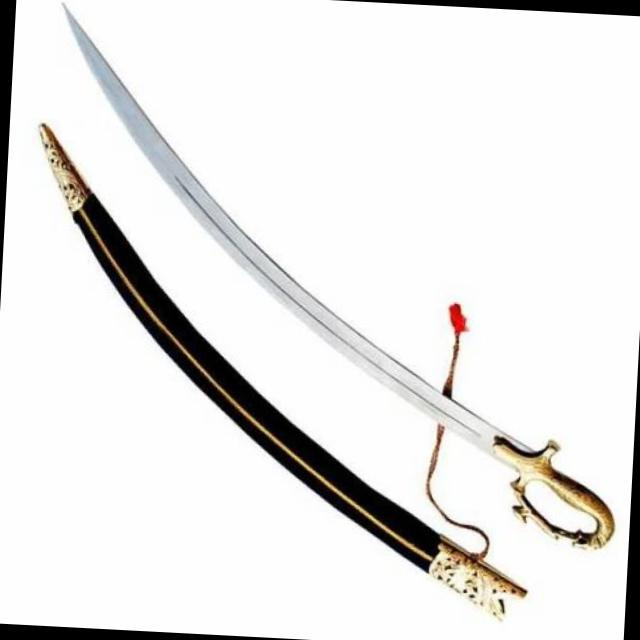Weapon: (29, 0, 640, 554)
